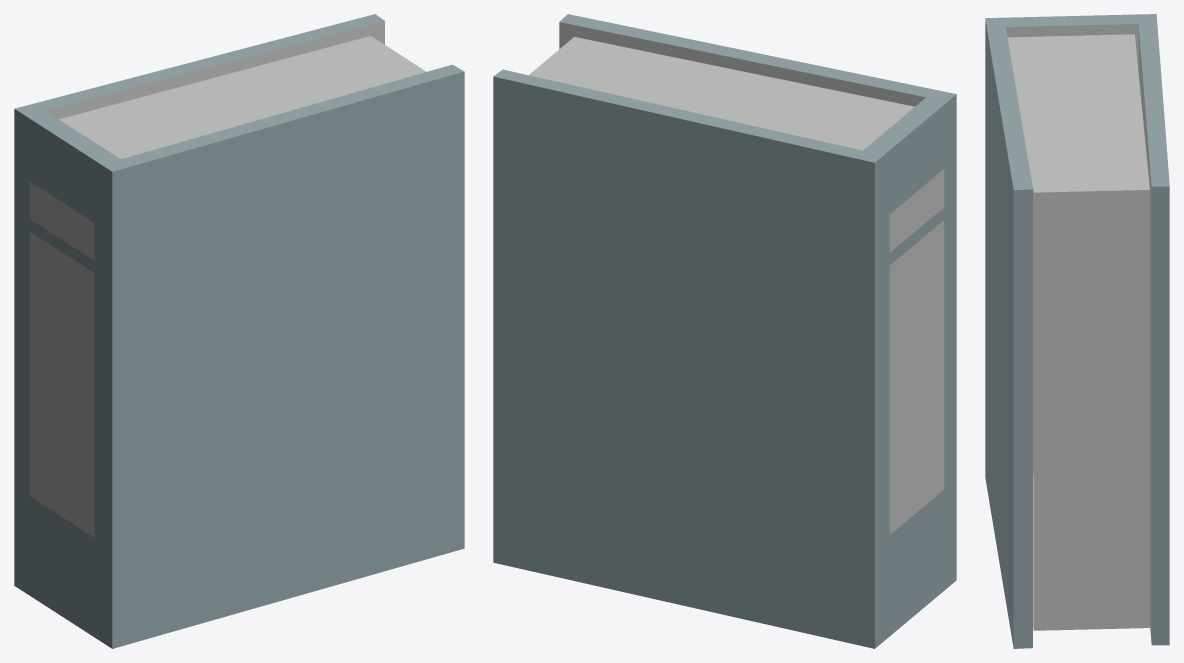
The model's file is SM_Book_08.fbx.
3 renders of one model, left to right at view 1: azimuth 30°, elevation 25°; view 2: azimuth 150°, elevation 25°; view 3: azimuth 270°, elevation 25°, orthographic. The views are drawn at different scales.
Visible parts, largest first — view 1: SM_Book_08; view 2: SM_Book_08; view 3: SM_Book_08.
Part boxes in pixels (x1,y1,x2,y2): SM_Book_08: [14, 14, 464, 648]; SM_Book_08: [493, 14, 956, 648]; SM_Book_08: [985, 14, 1169, 648].
Size of the model in its own units: 32.77 by 39.76 by 14.5.
1 material, 1 textured.
